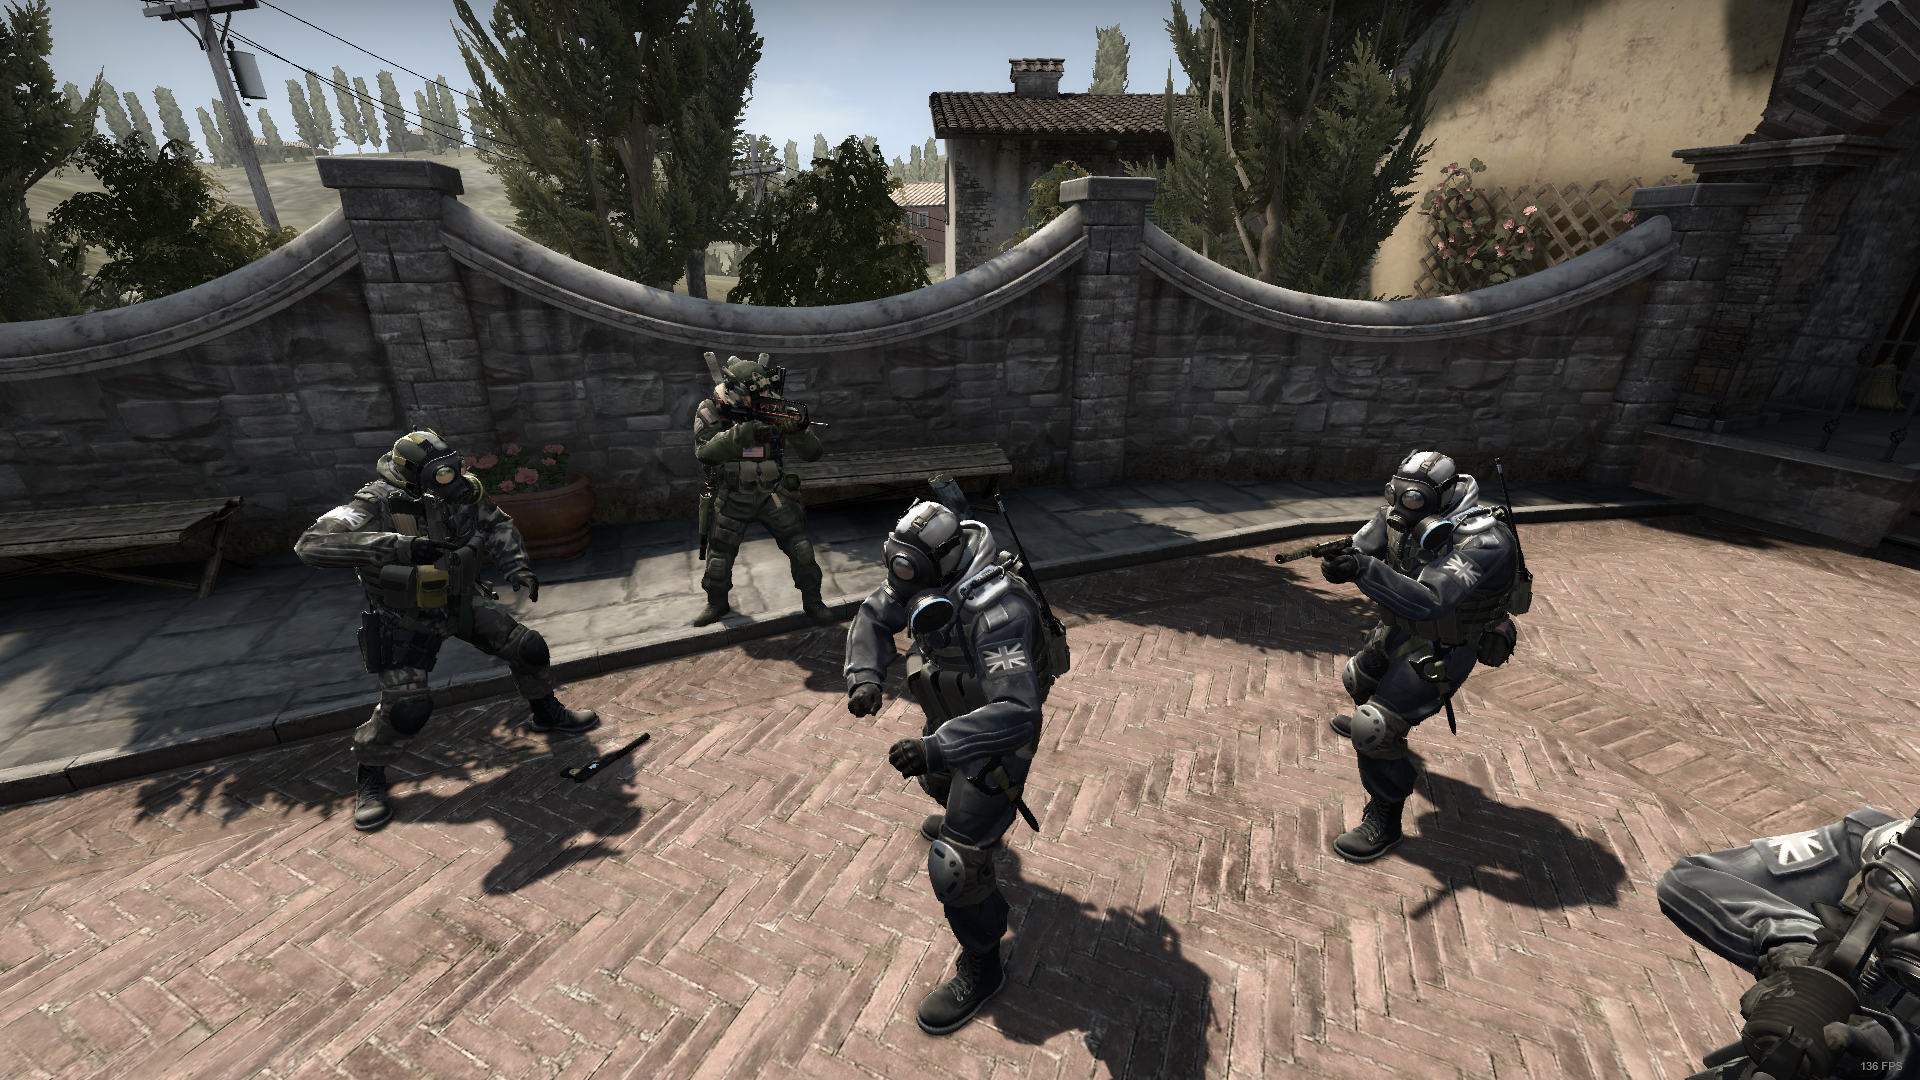ct: (827, 492, 1089, 1047), (291, 433, 607, 833), (1309, 429, 1538, 878)
